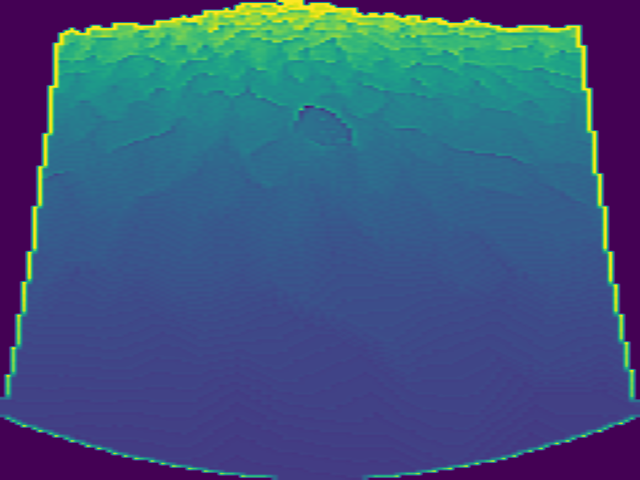car_0198: (296, 103, 353, 147)
